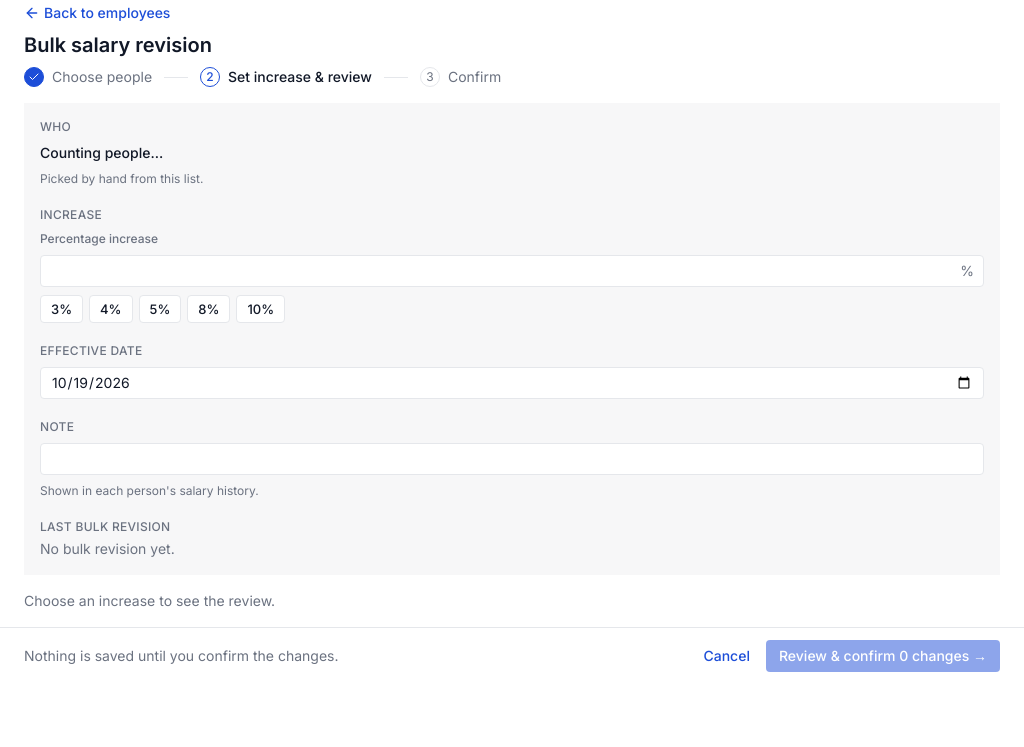
Test: BulkRevisionPage review › shows the USD total with each currency for a mixed selection, with the FX date
The width and height of the screenshot is (1024, 747).
Type "7" into the field labelled "Percentage increase" at (512, 271), box [40,255,984,287]
(page scrolled)
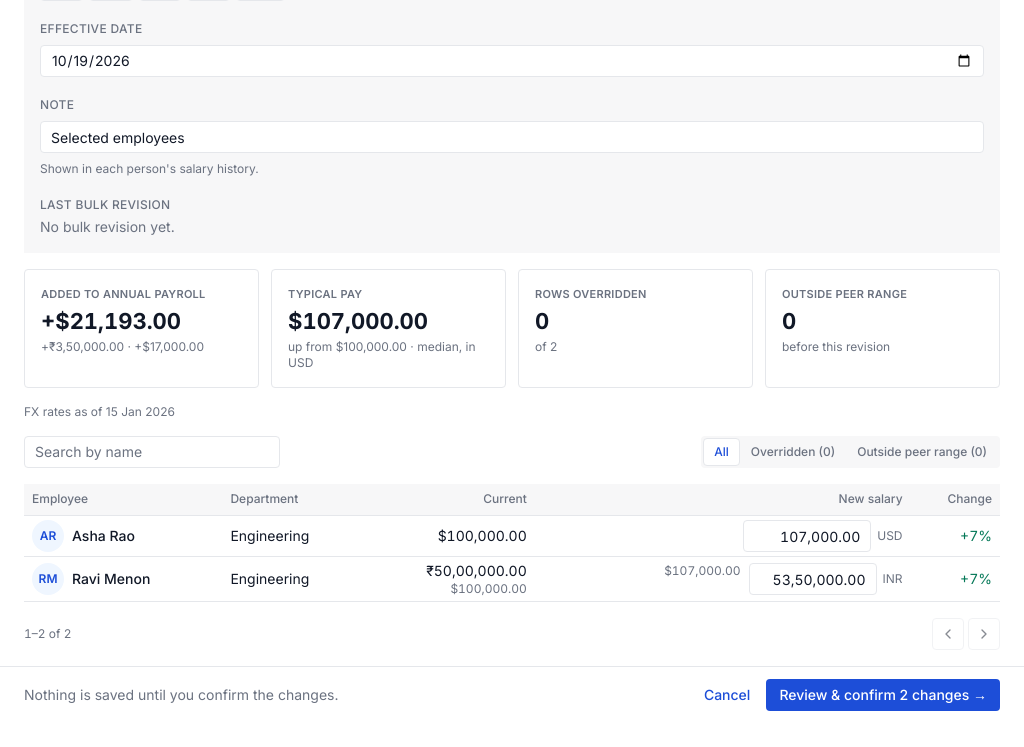
Check: the text "+$21,193.00" is shown, box [41,308,181,334]
Check: the text "+₹3,50,000.00 · +$17,000.00" is shown, box [41,338,204,354]
Check: the text "FX rates as of 15 Jan 2026" is shown, box [24,404,175,418]
